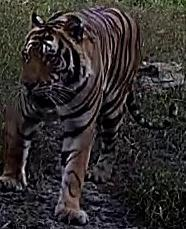tiger: (0, 7, 139, 222)
